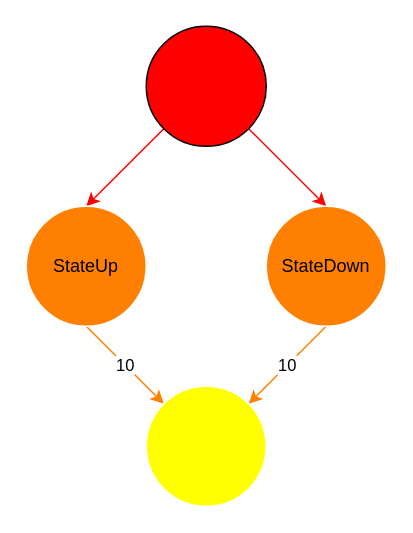
This 413x533 diagram has some shape labels left out. The shapes that lost their labels are listed below. From the top down, each one's centre as x and y in pixels, then its label:
At point 205,85: "Start".
At point 205,445: "End".
